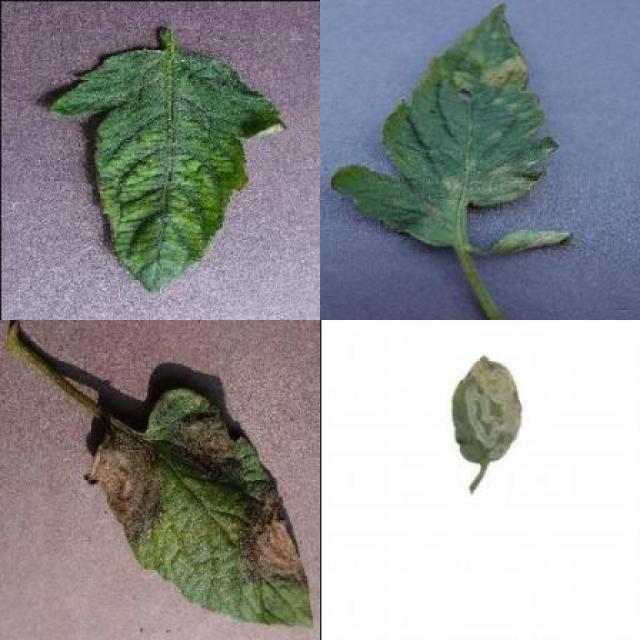Late Blight: (90, 388, 317, 631)
Leaf Miner: (454, 356, 525, 466)
Leaf Mold: (333, 1, 561, 246)
Mosaic Virus: (46, 49, 286, 294)
